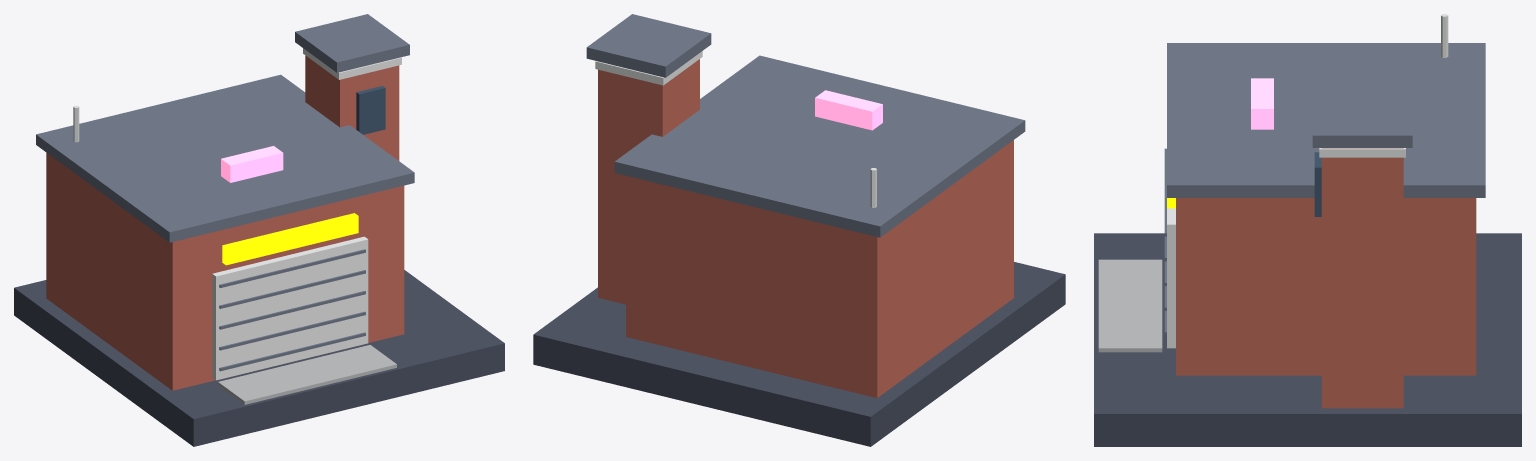
The model's file is fire_station.glb.
The picture shows the model from 3 angles, left to right: view 1: azimuth 30°, elevation 25°; view 2: azimuth 150°, elevation 25°; view 3: azimuth 270°, elevation 25°; orthographic projection. The views are drawn at different scales.
Parts seen in each view (by area): view 1: HallRoof, EngineHall, plinth, GarageDoor, Apron, HoseTower, TowerCap, SignBand, Beacon, TowerWindow, TowerBand, DoorSlat_4 (+4 smaller); view 2: EngineHall, HallRoof, plinth, HoseTower, TowerCap, Beacon, TowerBand; view 3: plinth, EngineHall, HallRoof, HoseTower, Apron, TowerCap, GarageDoor, Beacon, TowerBand, TowerWindow.
Part boxes in pixels (x1,y1,x2,y2): HallRoof: (36,74,414,242); EngineHall: (46,152,404,390); plinth: (14,270,504,446); GarageDoor: (212,236,368,380); Apron: (218,345,396,404); HoseTower: (305,55,399,160); TowerCap: (295,14,409,72); SignBand: (222,213,358,265); Beacon: (221,146,283,182); TowerWindow: (356,86,385,134); TowerBand: (303,48,401,79); DoorSlat_4: (219,249,365,287); EngineHall: (626,140,1013,397); HallRoof: (614,55,1025,237); plinth: (533,262,1065,446); HoseTower: (598,59,699,304); TowerCap: (586,14,711,77); Beacon: (815,90,882,130); TowerBand: (595,51,702,85); plinth: (1094,233,1521,446); EngineHall: (1176,198,1476,375); HallRoof: (1167,43,1485,197); HoseTower: (1321,148,1403,408); Apron: (1098,259,1162,352); TowerCap: (1312,93,1412,147); GarageDoor: (1167,208,1175,348); Beacon: (1251,78,1273,129); TowerBand: (1319,148,1405,157); TowerWindow: (1314,152,1321,216).
Bounding box in the file's own units: 0.94 × 0.75 × 0.94.
